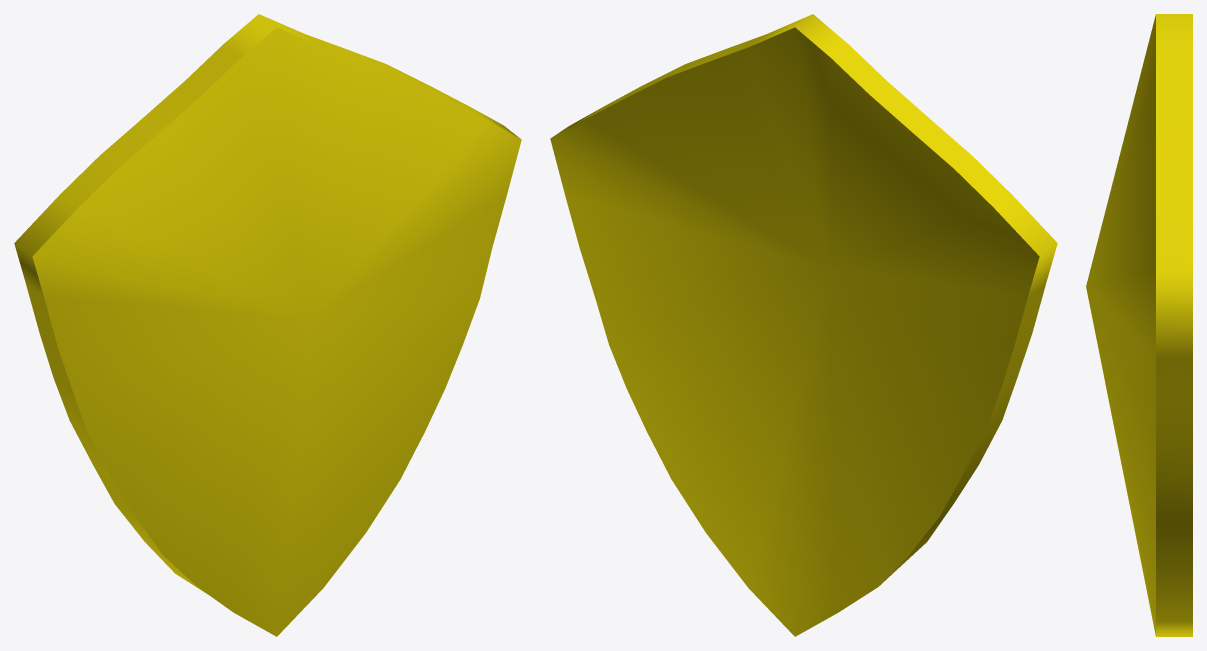
The model's file is GoldShield.fbx.
3 renders of one model, left to right at view 1: azimuth 30°, elevation 25°; view 2: azimuth 150°, elevation 25°; view 3: azimuth 270°, elevation 25°, orthographic. The views are drawn at different scales.
Parts seen in each view (by area): view 1: pCylinder1; view 2: pCylinder1; view 3: pCylinder1.
Part boxes in pixels (x1,y1,x2,y2): pCylinder1: [14, 14, 521, 636]; pCylinder1: [550, 14, 1057, 636]; pCylinder1: [1086, 14, 1192, 636].
Size of the model in its own units: 0.8778 by 1.05 by 0.1626.
